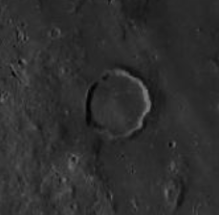crater: (70, 57, 166, 155)
